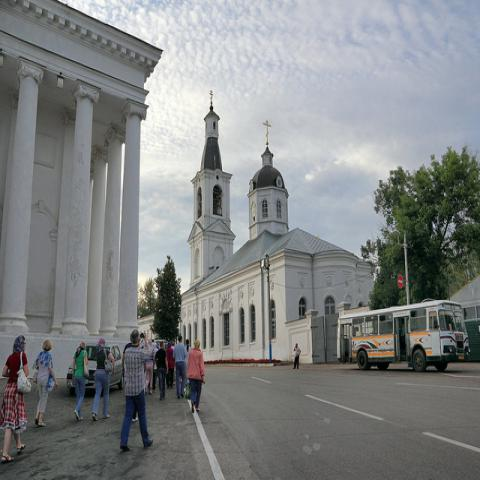bus: (337, 301, 470, 372)
car: (67, 340, 123, 395)
